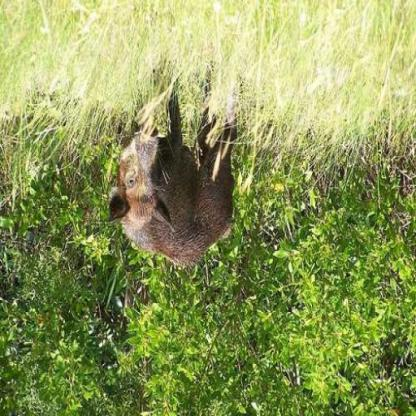boar: (108, 63, 269, 269)
